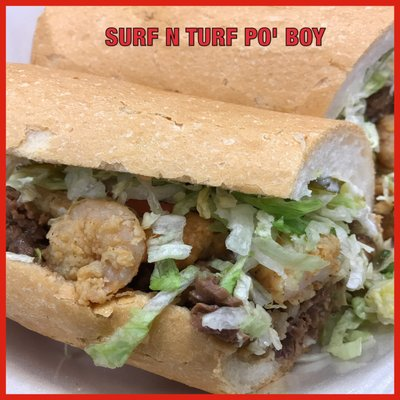soup: (6, 63, 390, 385)
